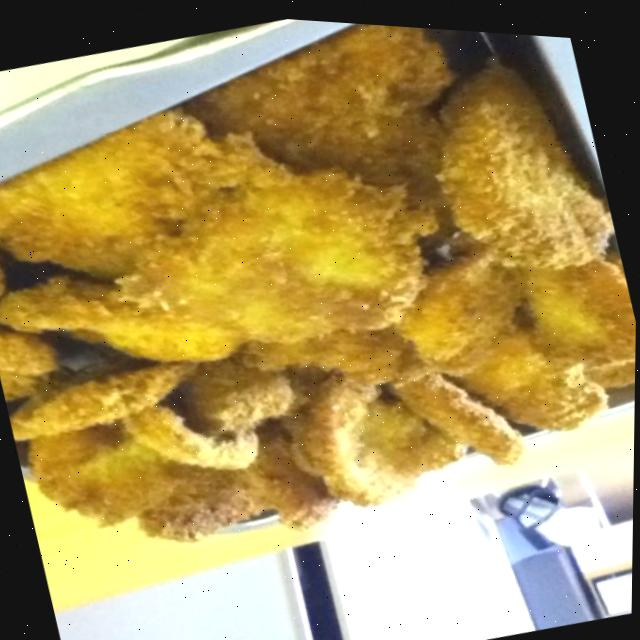牛肉菜式: (0, 0, 640, 614)
